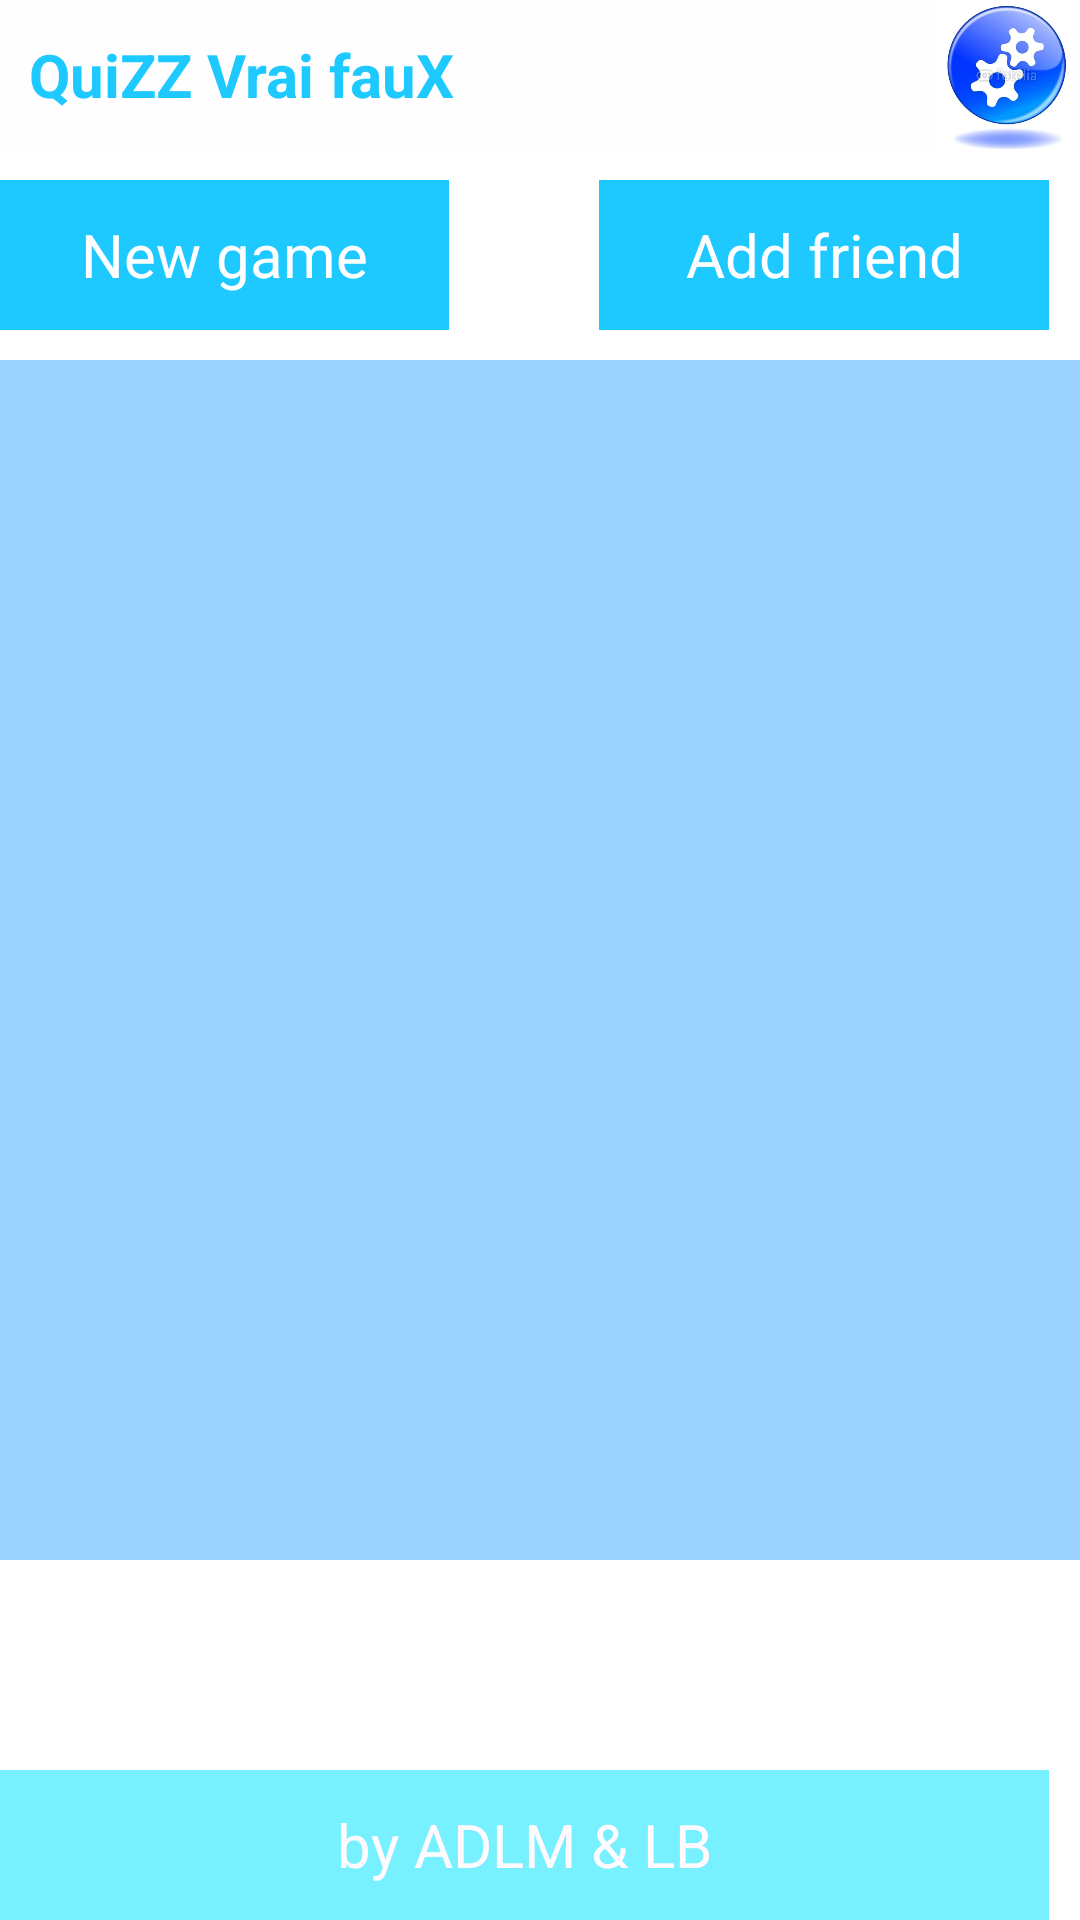

Icon click points for this 1080px x 1920px phone screenshot, format (x=x, y=y):
param: (x=1006, y=77)
